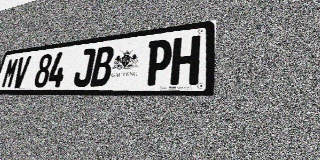4: (46, 51, 69, 87)
8: (33, 53, 54, 88)
B: (90, 46, 115, 87)
H: (170, 35, 201, 85)
J: (72, 48, 96, 87)
M: (1, 57, 20, 88)
P: (144, 38, 173, 86)
V: (11, 56, 31, 88)
